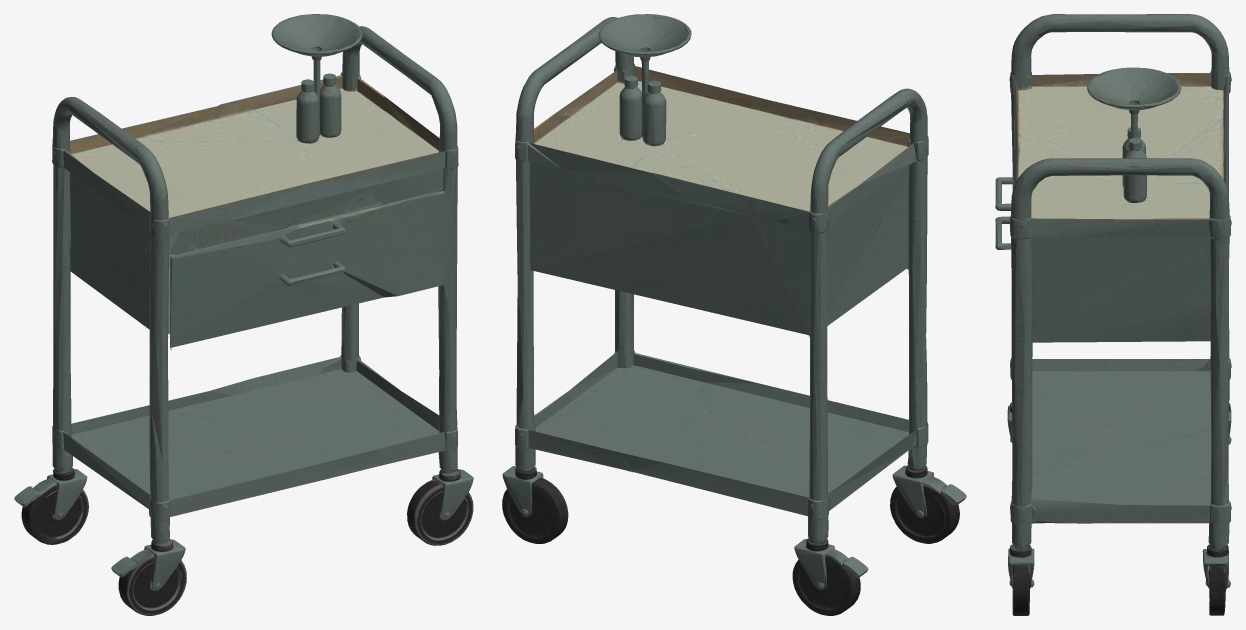
The model's file is carrello_A.glb.
3 renders of one model, left to right at view 1: azimuth 30°, elevation 25°; view 2: azimuth 150°, elevation 25°; view 3: azimuth 270°, elevation 25°, orthographic.
Parts seen in each view (by area): view 1: Mesh_0; view 2: Mesh_0; view 3: Mesh_0.
Boxes of the visible parts, <box> form: Mesh_0: <box>14,14,473,615</box>; Mesh_0: <box>502,14,966,615</box>; Mesh_0: <box>995,14,1231,615</box>.
Bounding box in the file's own units: 0.7261 × 0.95 × 0.4132.
1 material, 1 textured.
